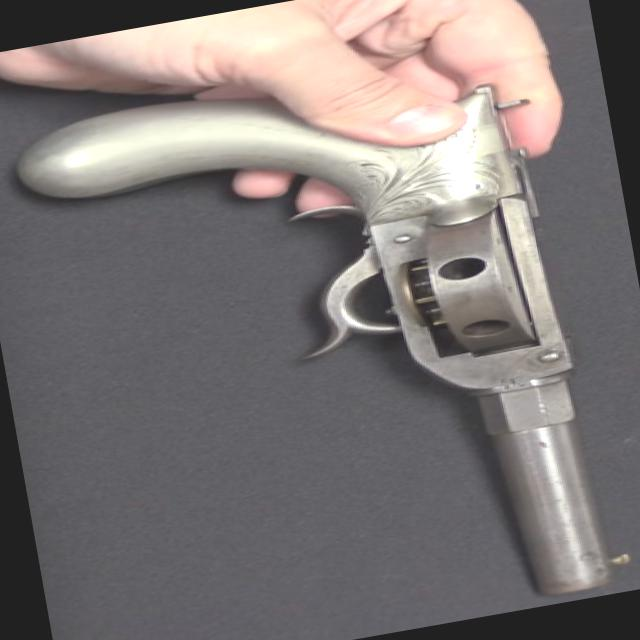handgun: (21, 28, 639, 639)
